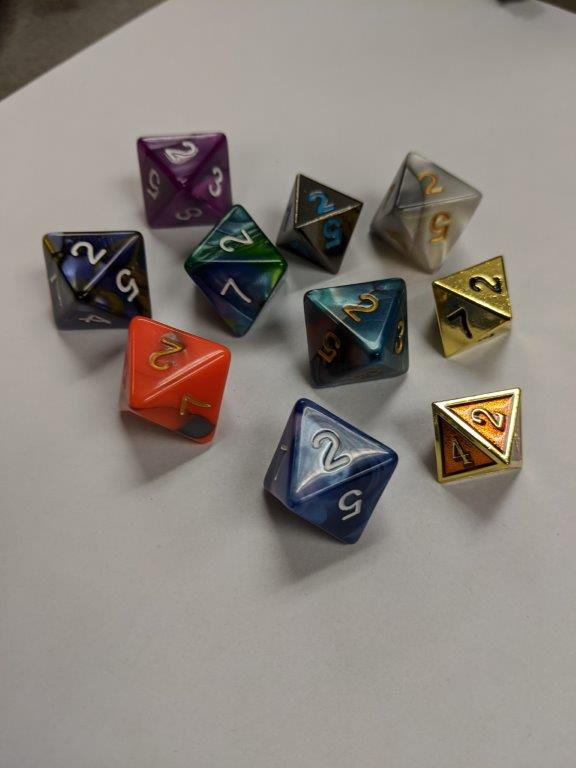d8-2: (261, 399, 398, 546), (115, 320, 237, 450), (182, 205, 285, 339), (372, 149, 482, 274), (303, 277, 411, 394), (44, 230, 155, 329), (138, 129, 233, 228), (430, 388, 527, 481), (433, 254, 516, 358), (276, 175, 364, 273)
